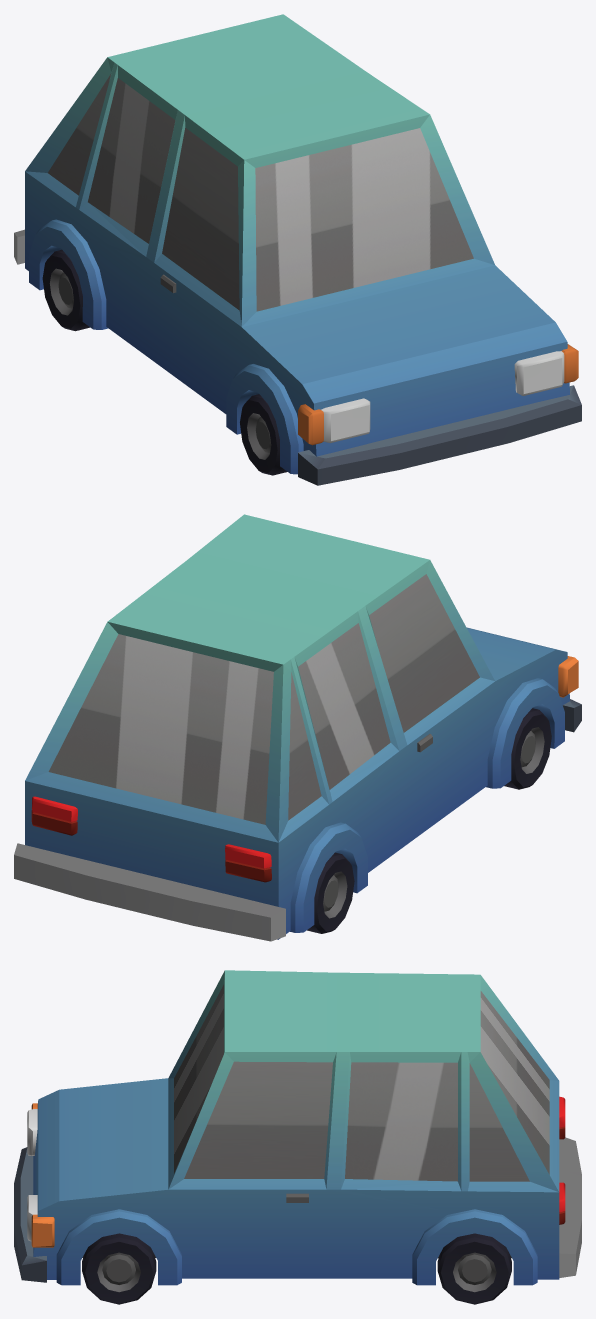
Rendered from Car_1_1.fbx.
3 views of the same model, one above another, from view 1: azimuth 30°, elevation 25°; view 2: azimuth 150°, elevation 25°; view 3: azimuth 270°, elevation 25° (orthographic). The views are drawn at different scales.
Parts seen in each view (by area): view 1: Car_1_1, Wheel_Br, Wheel_Fr; view 2: Car_1_1, Wheel_Fr, Wheel_Br; view 3: Car_1_1, Wheel_Fl, Wheel_Bl.
Boxes of the visible parts, x1,y1,x2,y2 form: Car_1_1: [14, 14, 581, 485]; Wheel_Br: [42, 249, 89, 331]; Wheel_Fr: [240, 394, 287, 475]; Car_1_1: [14, 514, 581, 941]; Wheel_Fr: [504, 708, 551, 789]; Wheel_Br: [307, 852, 354, 933]; Car_1_1: [14, 970, 581, 1285]; Wheel_Fl: [82, 1233, 156, 1304]; Wheel_Bl: [437, 1233, 511, 1304].
Size of the model in its own units: 1.05 by 0.9433 by 2.07.
